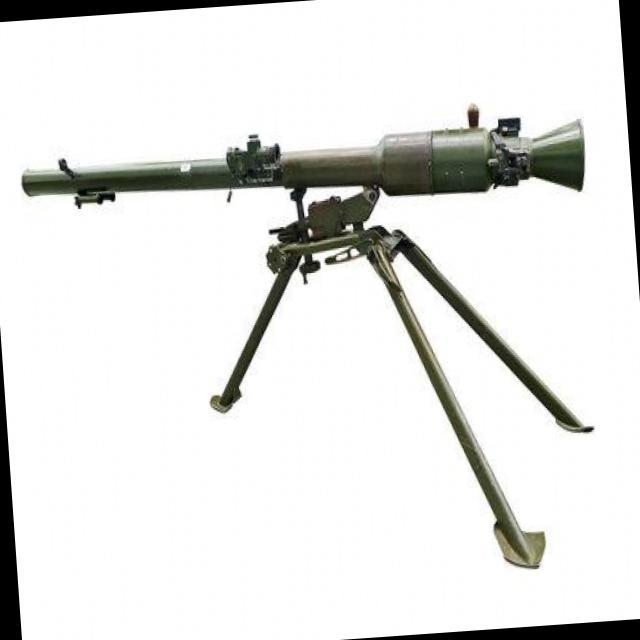rocket: (19, 103, 586, 228)
